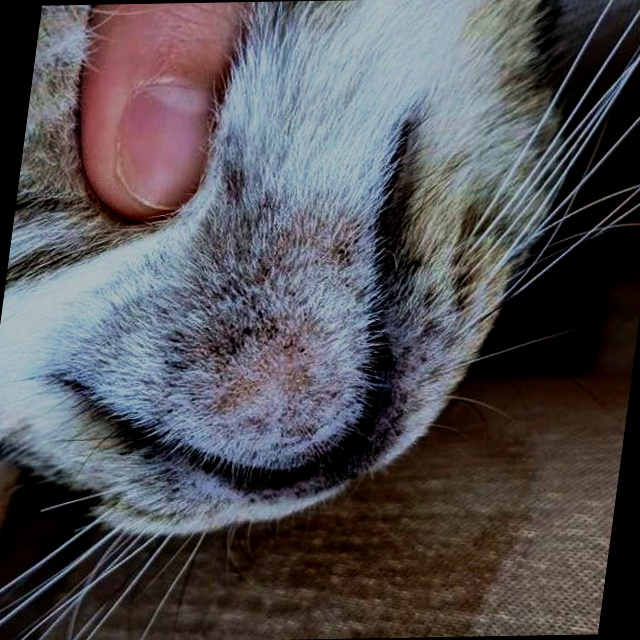acne: (149, 196, 373, 428)
